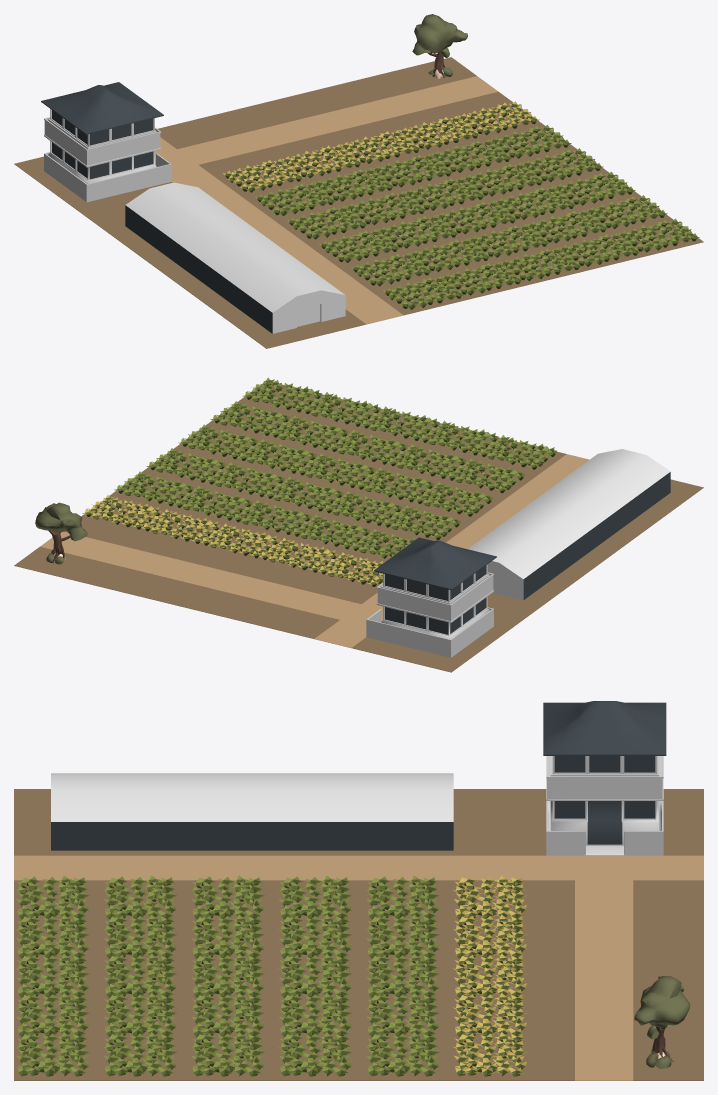
3 renders of one model, top to bottom at view 1: azimuth 30°, elevation 25°; view 2: azimuth 150°, elevation 25°; view 3: azimuth 270°, elevation 25°, orthographic. The views are drawn at different scales.
Parts seen in each view (by area): view 1: farm_0; view 2: farm_0; view 3: farm_0.
Boxes of the visible parts, x1,y1,x2,y2 form: farm_0: (14,14,703,348); farm_0: (14,377,703,672); farm_0: (14,701,703,1080).
Size of the model in its own units: 12 by 2.38 by 12.
